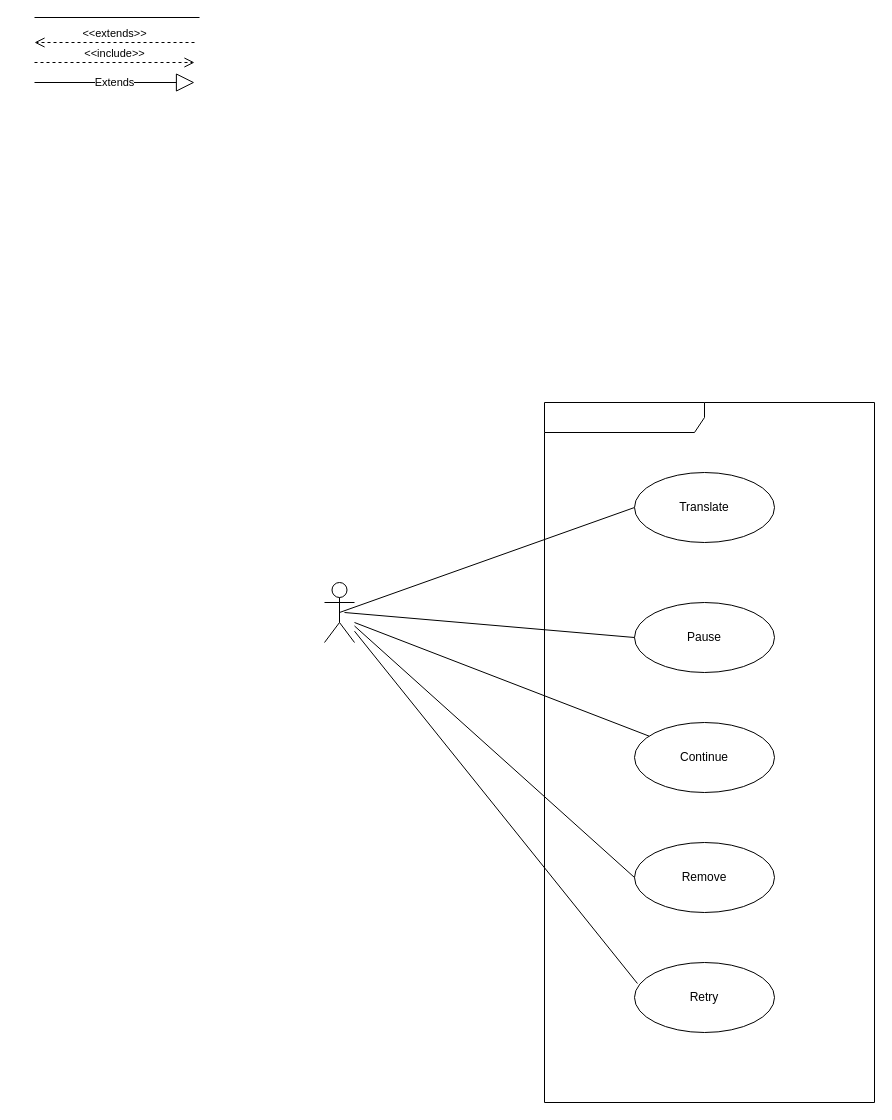
Image size: 892x1120. Some labels were removed from this diagram. The shapes that lost their labels are listed below. From the top down, each one's box as (x1, y1, x2, y2) in pixels, then its label:
(324, 582, 354, 642): User
(544, 402, 874, 1102): Captly
